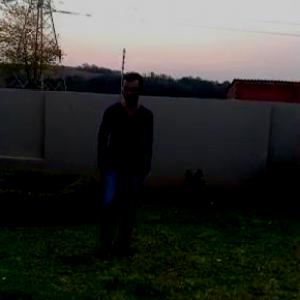follow: (88, 60, 149, 278)
